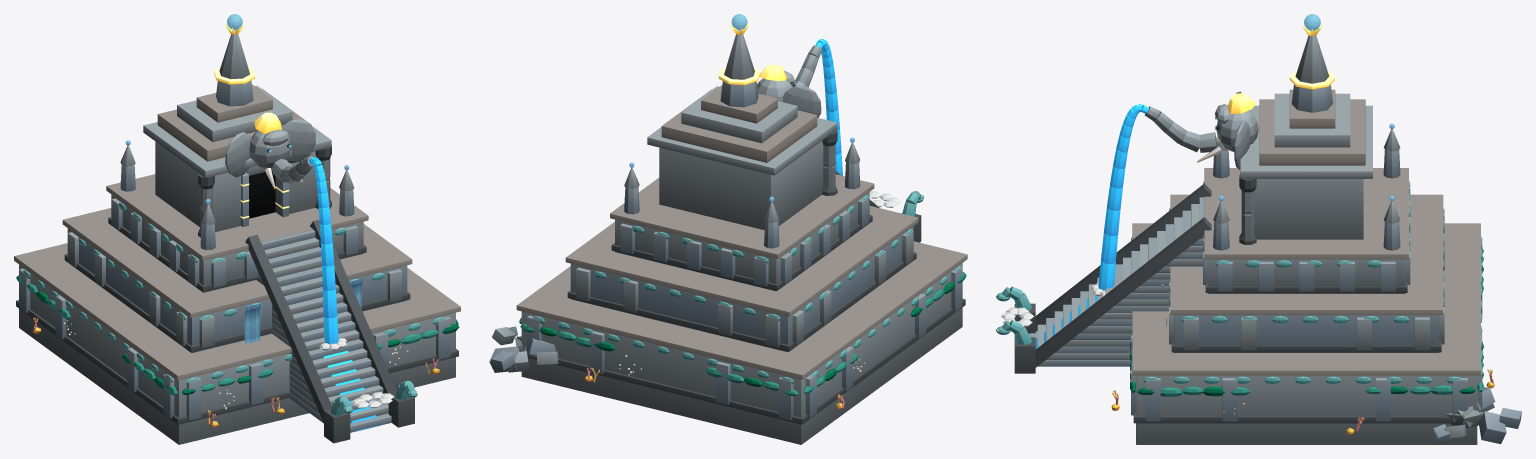
The model's file is sea_temple.glb.
3 renders of one model, left to right at view 1: azimuth 30°, elevation 25°; view 2: azimuth 150°, elevation 25°; view 3: azimuth 270°, elevation 25°, orthographic. The views are drawn at different scales.
Visible parts, largest first — view 1: sea_temple; view 2: sea_temple; view 3: sea_temple.
Part boxes in pixels (left/top/right/bottom): sea_temple: left=14, top=14, right=460, bottom=444; sea_temple: left=489, top=14, right=967, bottom=444; sea_temple: left=996, top=14, right=1521, bottom=444.
Size of the model in its own units: 21.35 by 20.85 by 27.75.
Materials: 5 (5 with a texture image).
